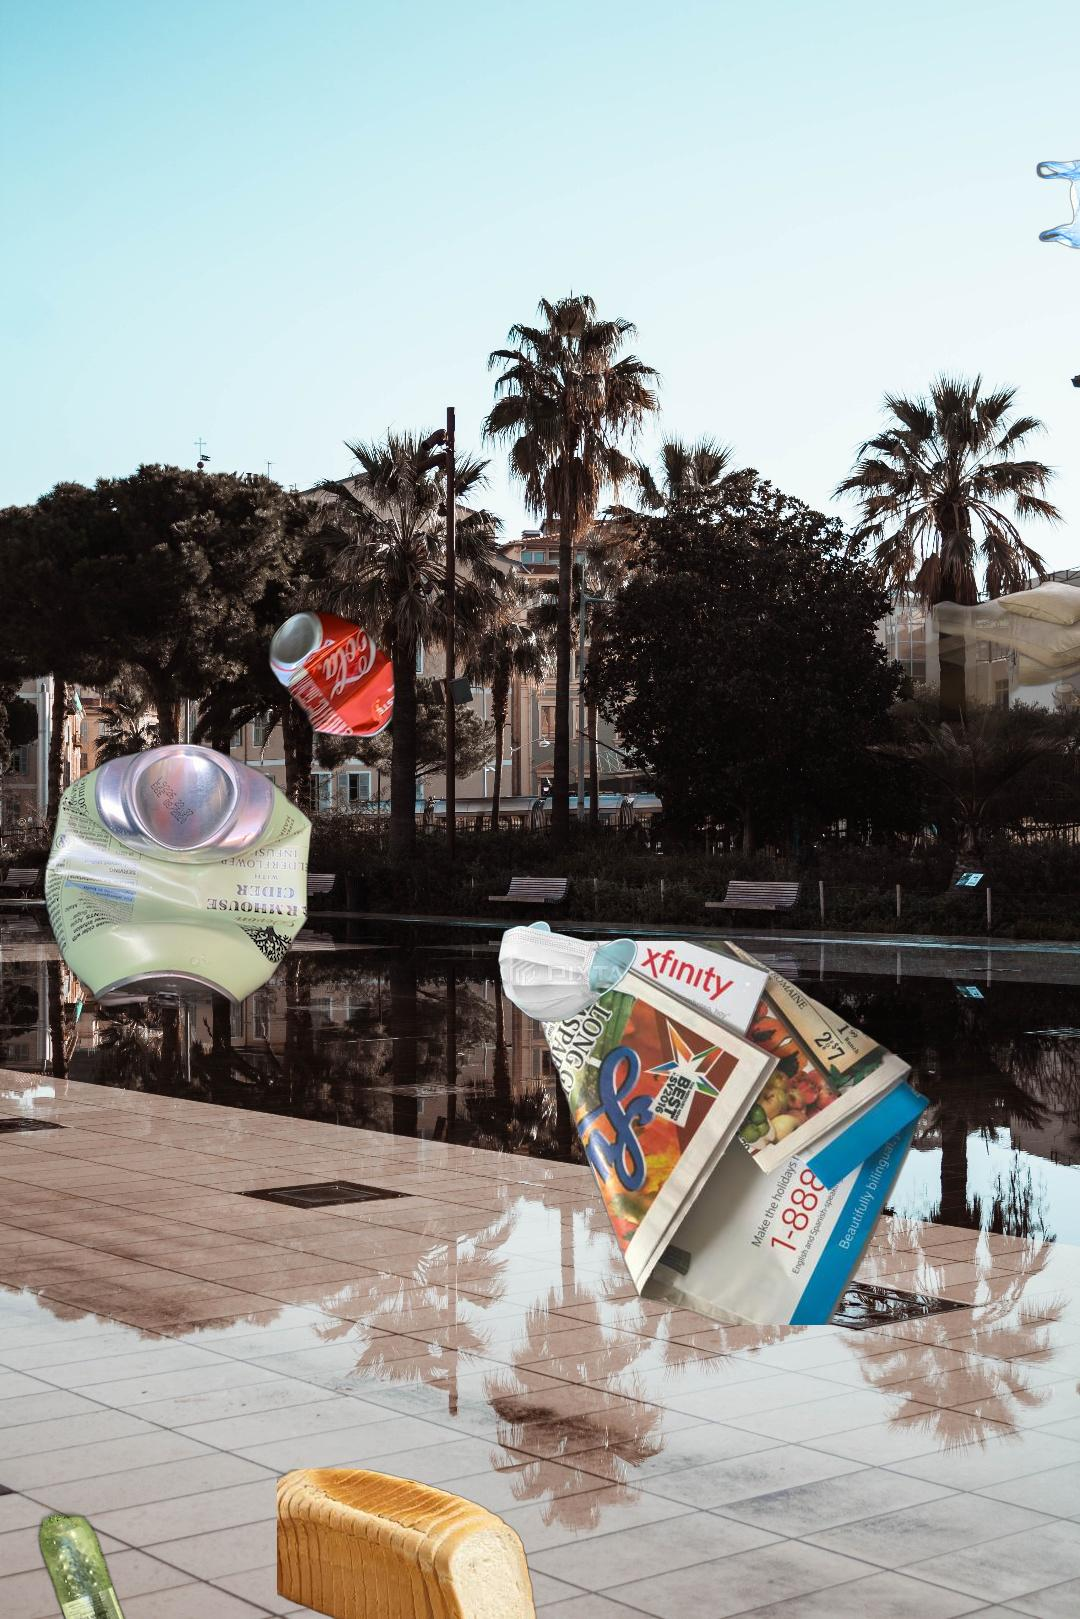biological: (277, 1470, 541, 1619)
metal-cans: (39, 737, 318, 1017), (264, 604, 400, 744)
paper: (507, 942, 937, 1325)
plastic-bag: (1034, 158, 1080, 251)
plastic-bottles: (34, 1507, 139, 1619)
trash: (495, 919, 640, 1025)
trashbox-cardboard: (865, 567, 1080, 738)
